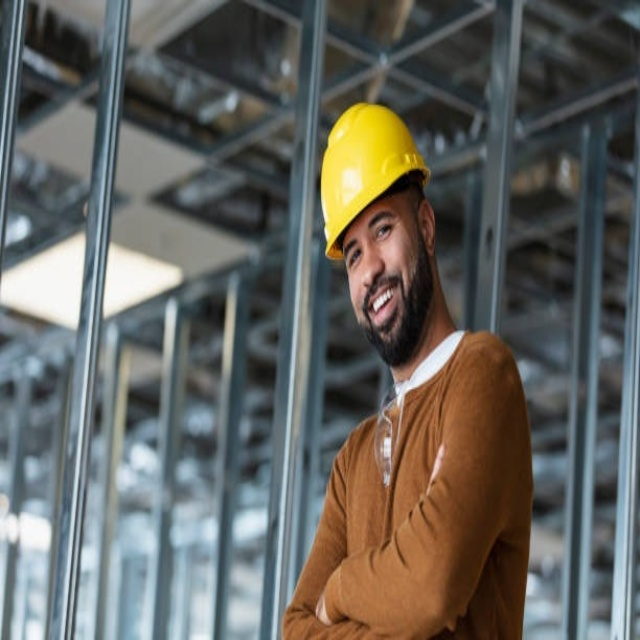Sin_gafas: (343, 199, 399, 270)
Sin_mascara: (365, 270, 406, 334)
